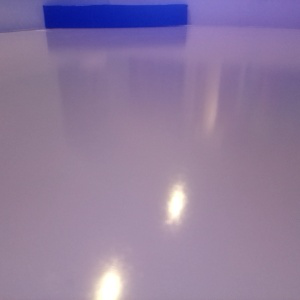zone: (44, 5, 188, 29)
